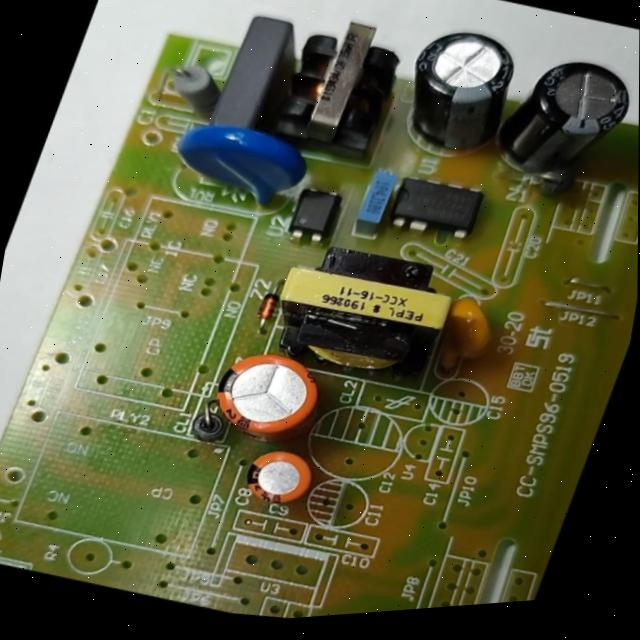Cap1: (195, 332, 336, 465)
Cap2: (228, 436, 324, 518)
Cap3: (379, 8, 537, 178)
Cap4: (485, 37, 639, 210)
MOSFET: (381, 162, 499, 251)
Mov: (153, 98, 319, 231)
Resistor: (154, 49, 234, 121)
Transformer: (248, 217, 474, 402), (258, 0, 422, 184)
